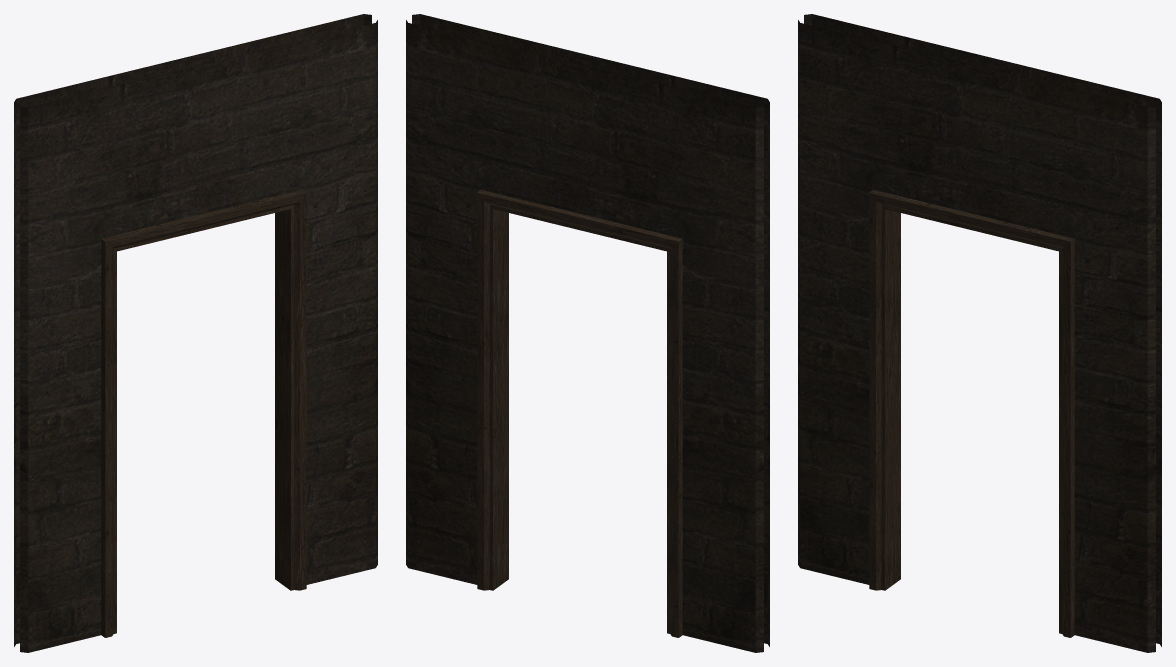
Rendered from doorway_3_half.obj.
The picture shows the model from 3 angles, left to right: view 1: azimuth 30°, elevation 25°; view 2: azimuth 150°, elevation 25°; view 3: azimuth 330°, elevation 25°; orthographic projection.
Visible parts, largest first — view 1: doorway_3_half; view 2: doorway_3_half; view 3: doorway_3_half.
Boxes of the visible parts, <box> form: doorway_3_half: <box>14,14,377,652</box>; doorway_3_half: <box>406,14,769,652</box>; doorway_3_half: <box>798,14,1161,652</box>.
Size of the model in its own units: 2.06 by 3 by 0.2.
